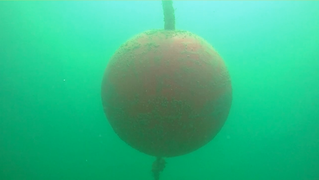bubble: (225, 134, 232, 141), (98, 132, 103, 138), (84, 158, 89, 163), (62, 78, 66, 82)
buoy: (99, 29, 233, 159)
